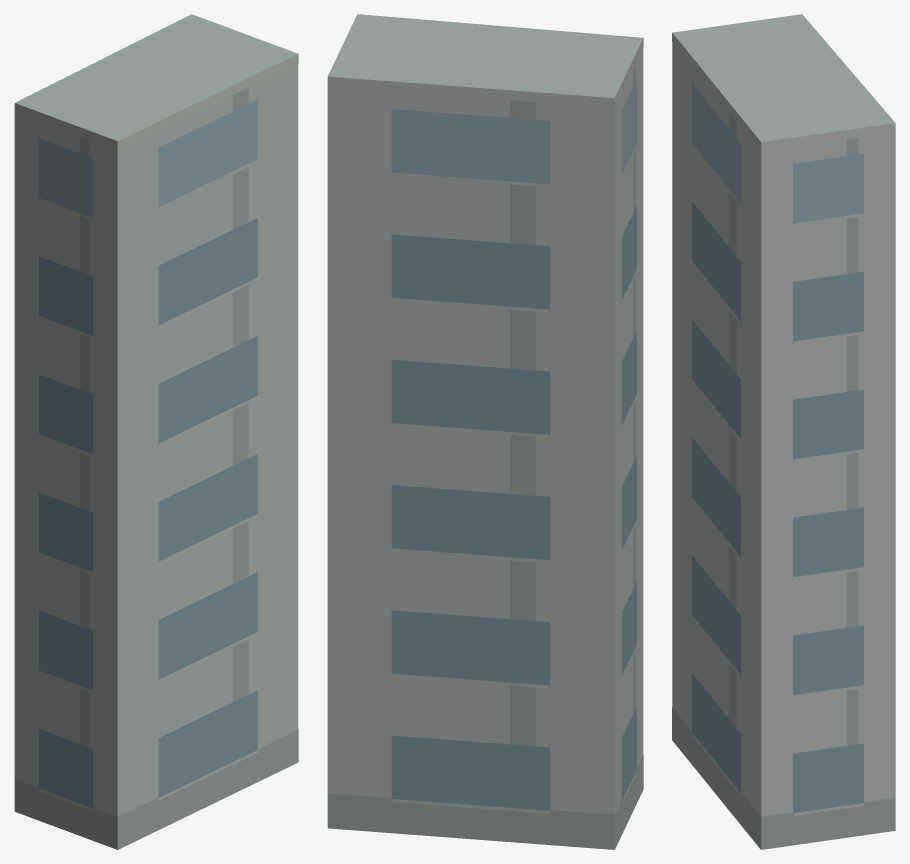
The model's file is survey-upis-32762244.glb.
The picture shows the model from 3 angles, left to right: view 1: azimuth 30°, elevation 25°; view 2: azimuth 150°, elevation 25°; view 3: azimuth 270°, elevation 25°; orthographic projection. The views are drawn at different scales.
Parts seen in each view (by area): view 1: survey-upis-32762244.tmp; view 2: survey-upis-32762244.tmp; view 3: survey-upis-32762244.tmp.
Boxes of the visible parts, bbox=[...] form: survey-upis-32762244.tmp: bbox=[14, 14, 298, 849]; survey-upis-32762244.tmp: bbox=[327, 14, 643, 849]; survey-upis-32762244.tmp: bbox=[672, 14, 895, 849].
Bounding box in the file's own units: 7.12 × 18.3 × 5.25.
